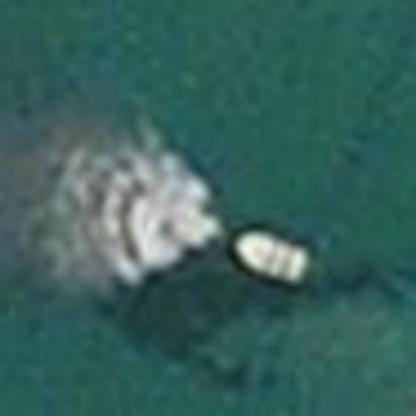ship: (224, 216, 320, 297)
